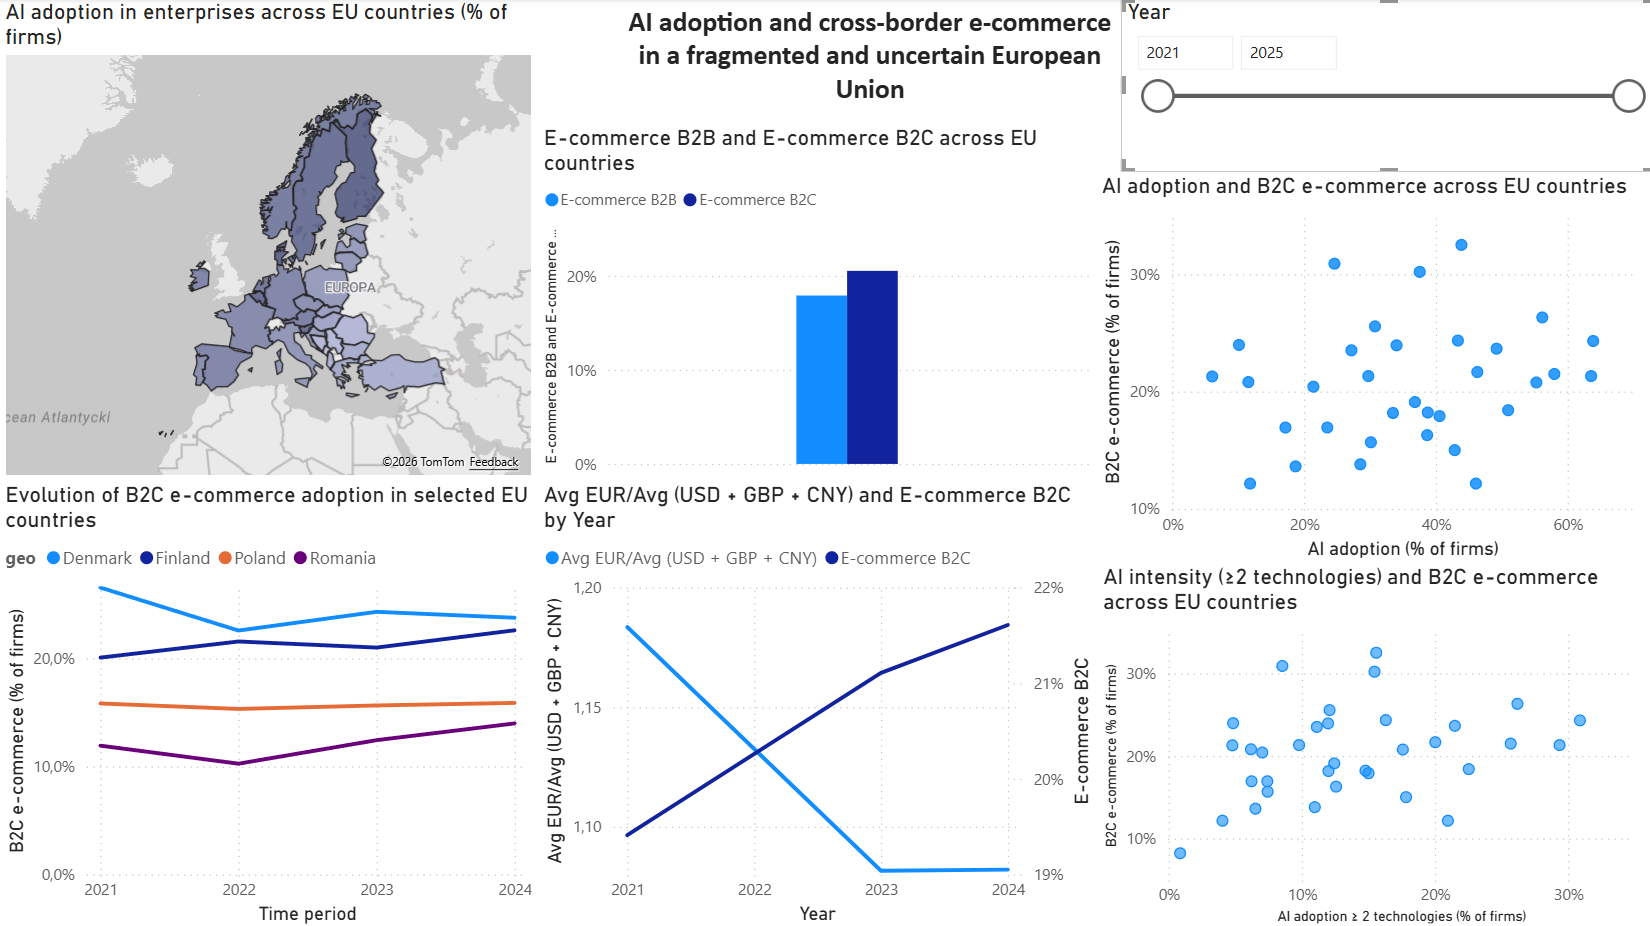

The dashboard page shown, as its layout file describes it:
{"tool":"powerbi","page":{"name":"Dashboard","canvas":[1280,720],"ordinal":1},"visuals":[{"type":"slicer","title":"Year","fields":{"Values":["isoc_eb_ai_at_least_1.TIME_PERIOD"]},"box":[866.5,0,413.3,134.6],"z":0},{"type":"textbox","box":[478.9,0,388.3,194.1],"z":1000},{"type":"azureMap","title":"AI adoption in enterprises across EU countries (% of firms)","fields":{"Category":["isoc_eb_ai_at_least_1.Geopolitical entity (reporting)"]},"box":[0,0,416,373.3],"z":2000},{"type":"scatterChart","title":"AI adoption and B2C e-commerce across EU countries","fields":{"X":["isoc_eb_ai_at_least_1.AI Adoption (≥1)"],"Y":["euostat_ecommerce_B2C.E-commerce B2C"],"Category":["euostat_ecommerce_B2C.geo"]},"box":[847.6,134.6,432.2,302.9],"z":3000},{"type":"lineChart","title":"Evolution of B2C e-commerce adoption in selected EU countries","fields":{"Category":["euostat_ecommerce_B2C.TIME_PERIOD"],"Y":["euostat_ecommerce_B2C.E-commerce B2C"],"Series":["euostat_ecommerce_B2C.geo"]},"box":[0,373.3,416,346.7],"z":4000},{"type":"scatterChart","title":"AI intensity (≥2 technologies) and B2C e-commerce across EU countries","fields":{"X":["isoc_eb_ai_at_least_2.AI Intensity (≥2)"],"Y":["euostat_ecommerce_B2C.E-commerce B2C"],"Category":["euostat_ecommerce_B2C.geo"]},"box":[848,437.3,432,283],"z":5000},{"type":"clusteredColumnChart","title":"E-commerce B2B and E-commerce B2C across EU countries","fields":{"Y":["euostat_ecommerce_B2B.E-commerce B2B","euostat_ecommerce_B2C.E-commerce B2C"]},"box":[416,97.1,432,276.3],"z":6000},{"type":"lineChart","fields":{"Category":["EXR_Annual.Year"],"Y":["EXR_Annual.Avg EUR/USD"],"Y2":["euostat_ecommerce_B2C.E-commerce B2C"]},"box":[416,373.3,432,346.7],"z":7000}]}

Visuals, with their boxes in screenshot pixels (x1, y1, x2, y2), scaled from the page's 1280x720 canvas onto the 1650x926 screenshot:
"Year" slicer: crop(1117, 0, 1649, 173)
textbox: crop(617, 0, 1118, 250)
"AI adoption in enterprises across EU countries (% of firms)" azureMap: crop(0, 0, 536, 480)
"AI adoption and B2C e-commerce across EU countries" scatterChart: crop(1093, 173, 1649, 563)
"Evolution of B2C e-commerce adoption in selected EU countries" lineChart: crop(0, 480, 536, 925)
"AI intensity (≥2 technologies) and B2C e-commerce across EU countries" scatterChart: crop(1093, 562, 1649, 925)
"E-commerce B2B and E-commerce B2C across EU countries" clusteredColumnChart: crop(536, 125, 1093, 480)
lineChart - EXR_Annual.Year x EXR_Annual.Avg EUR/USD: crop(536, 480, 1093, 925)
